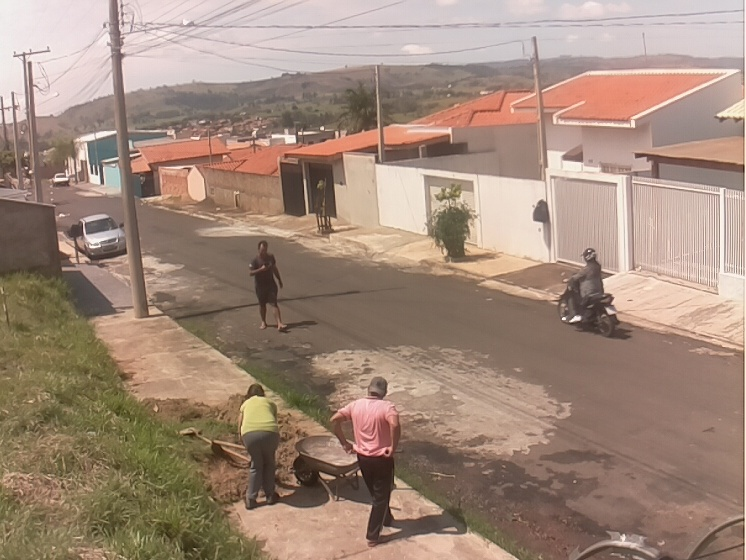person: (328, 375, 401, 543), (236, 382, 283, 508), (248, 240, 289, 333), (562, 248, 604, 323)
